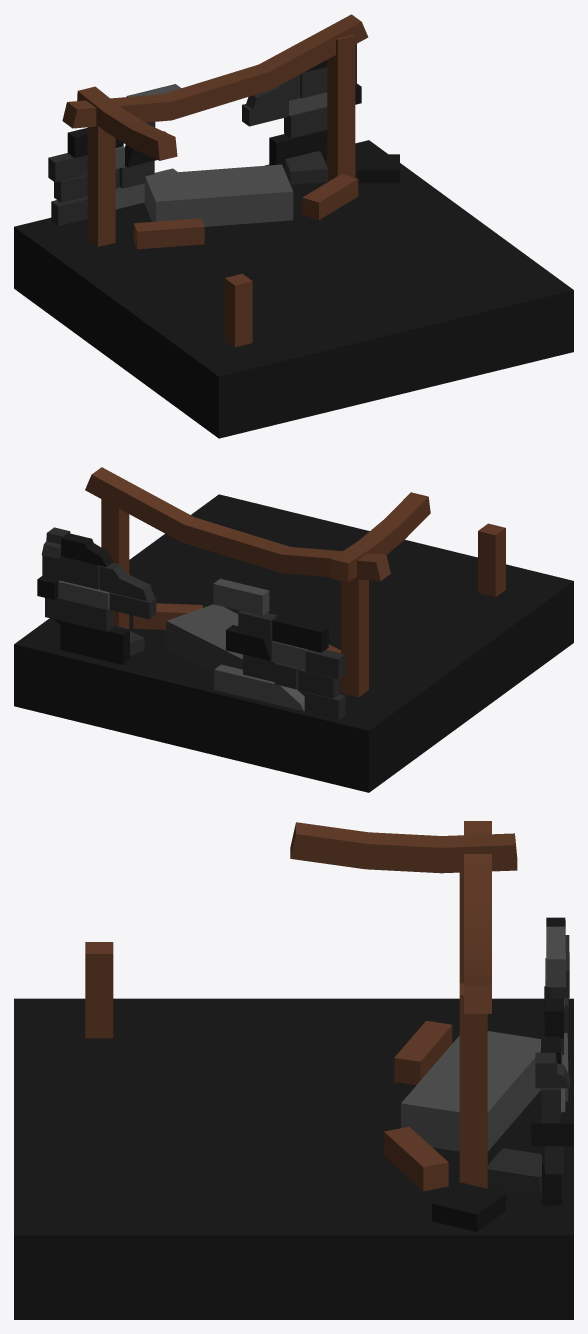
3 renders of one model, top to bottom at view 1: azimuth 30°, elevation 25°; view 2: azimuth 150°, elevation 25°; view 3: azimuth 270°, elevation 25°, orthographic. The views are drawn at different scales.
Visible parts, largest first — view 1: ground005, wall008, Box001, Box006, Box007, Box004, Box005, Box010, Box009, Box008, Box003, Box002; view 2: ground005, wall008, Box006, Box001, Box005, Box004, Box010, Box007, Box008; view 3: ground005, Box001, Box005, wall008, Box007, Box006, Box010, Box008, Box003, Box009, Box002.
Part boxes in pixels (left/top/right/bottom): ground005: left=14, top=140, right=573, bottom=438; wall008: left=48, top=44, right=361, bottom=225; Box001: left=144, top=164, right=293, bottom=226; Box006: left=62, top=14, right=368, bottom=128; Box007: left=327, top=34, right=355, bottom=181; Box004: left=87, top=122, right=115, bottom=246; Box005: left=77, top=86, right=177, bottom=160; Box010: left=224, top=273, right=252, bottom=347; Box009: left=133, top=218, right=204, bottom=249; Box008: left=302, top=174, right=358, bottom=219; Box003: left=357, top=154, right=399, bottom=183; Box002: left=285, top=151, right=327, bottom=184; ground005: left=14, top=494, right=573, bottom=792; wall008: left=37, top=527, right=345, bottom=719; Box006: left=85, top=467, right=390, bottom=581; Box001: left=166, top=604, right=242, bottom=673; Box005: left=330, top=492, right=430, bottom=582; Box004: left=341, top=579, right=368, bottom=697; Box010: left=478, top=523, right=505, bottom=596; Box007: left=101, top=499, right=129, bottom=629; Box008: left=133, top=603, right=202, bottom=629; ground005: left=14, top=998, right=573, bottom=1319; Box001: left=401, top=1031, right=541, bottom=1151; Box005: left=290, top=822, right=517, bottom=873; wall008: left=531, top=917, right=573, bottom=1205; Box007: left=459, top=983, right=487, bottom=1188; Box006: left=464, top=821, right=491, bottom=1013; Box010: left=85, top=942, right=113, bottom=1038; Box008: left=384, top=1126, right=448, bottom=1191; Box003: left=432, top=1182, right=505, bottom=1231; Box009: left=394, top=1020, right=452, bottom=1085; Box002: left=487, top=1148, right=541, bottom=1194.
Size of the model in its own units: 118 by 70.35 by 118.
